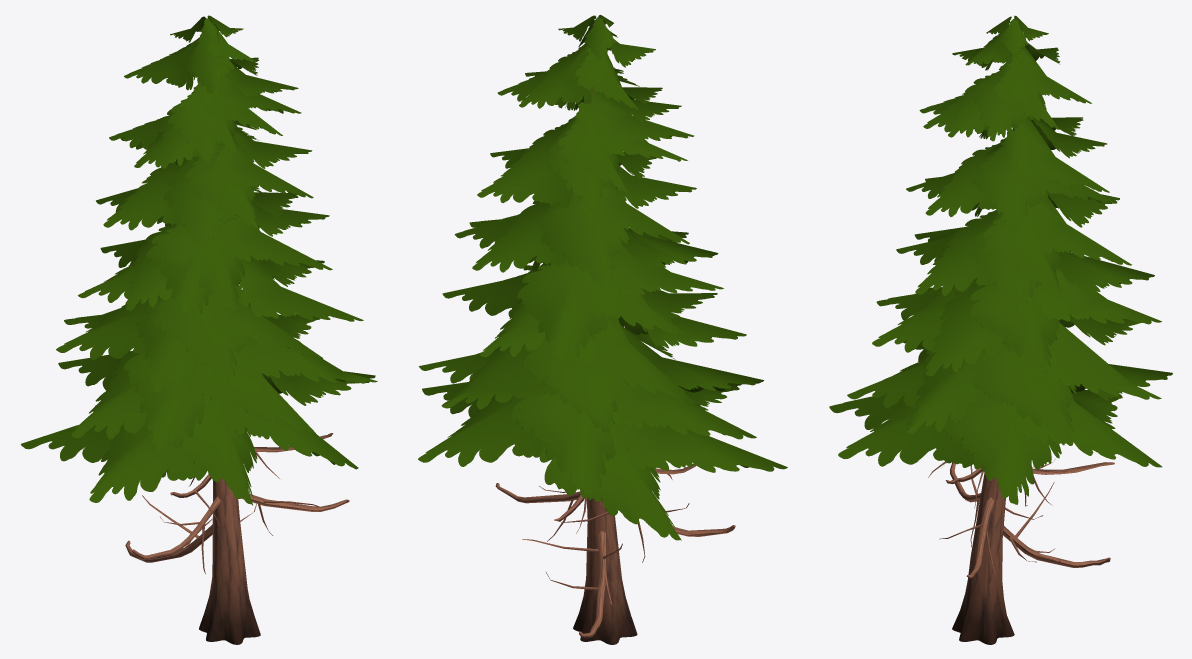
The model's file is Pine_4.gltf.
3 views of the same model, side by side, from view 1: azimuth 30°, elevation 25°; view 2: azimuth 150°, elevation 25°; view 3: azimuth 270°, elevation 25° (orthographic). The views are drawn at different scales.
Visible parts, largest first — view 1: Pine_4; view 2: Pine_4; view 3: Pine_4.
Part boxes in pixels (x1=…): Pine_4: x1=21, y1=15, x2=377, y2=644; Pine_4: x1=418, y1=15, x2=787, y2=644; Pine_4: x1=829, y1=15, x2=1172, y2=644.
Size of the model in its own units: 5.8 by 10.24 by 5.37.
2 materials, 2 textured.
